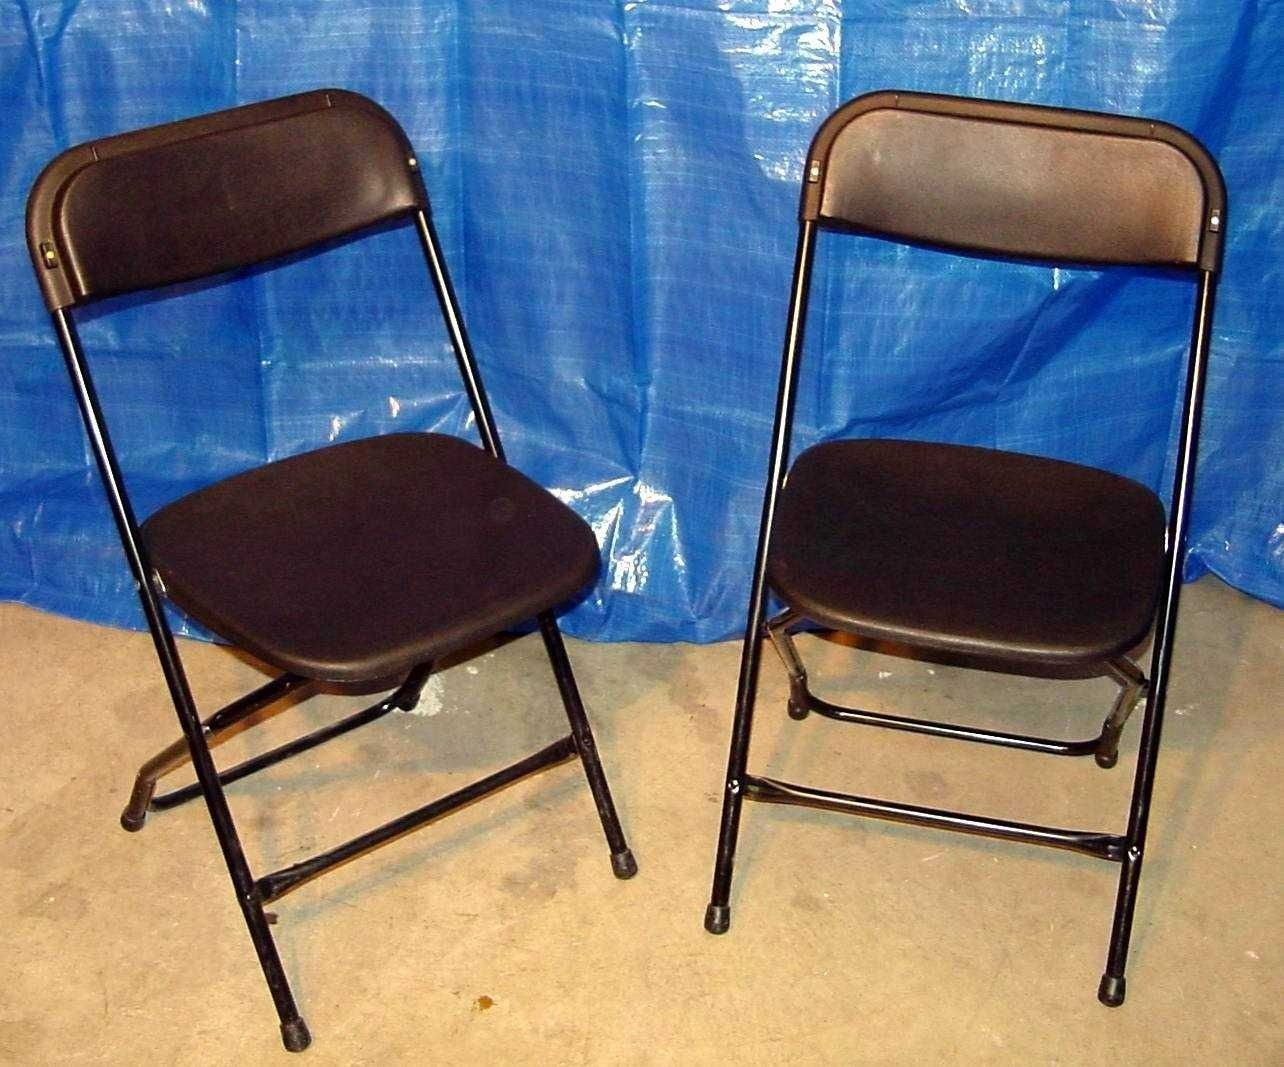obstacle: (705, 91, 1225, 1005)
